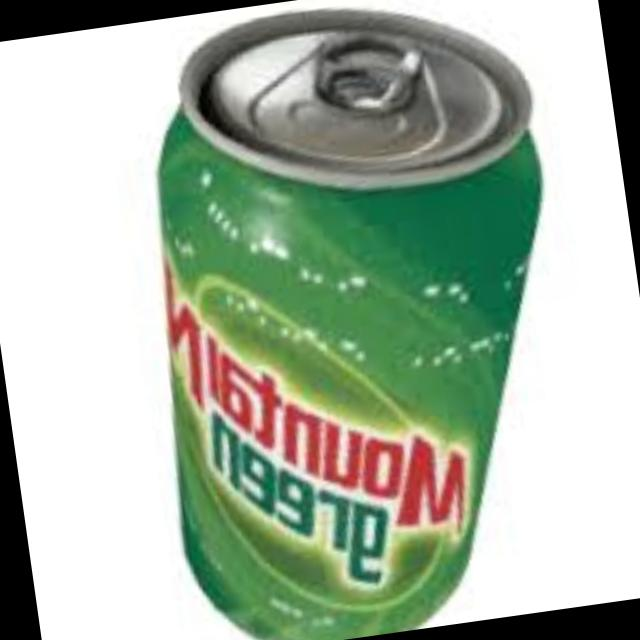metal: (164, 5, 544, 640)
